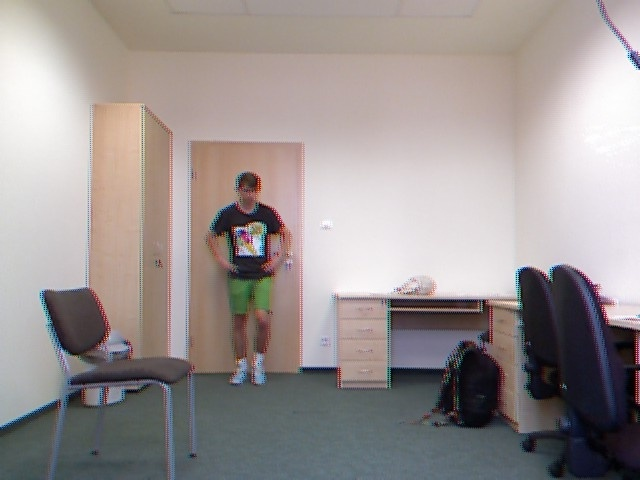not_fallen: (207, 173, 306, 389)
